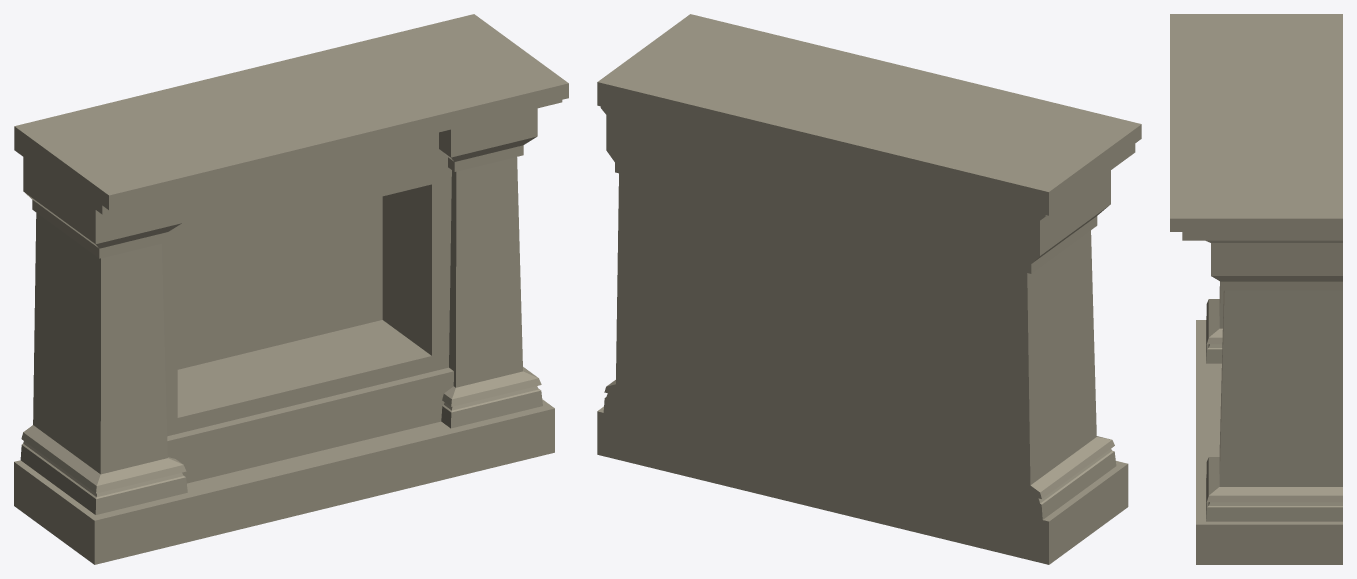
The model's file is Fireplace.glb.
3 renders of one model, left to right at view 1: azimuth 30°, elevation 25°; view 2: azimuth 150°, elevation 25°; view 3: azimuth 270°, elevation 25°, orthographic. The views are drawn at different scales.
Visible parts, largest first — view 1: Fireplace; view 2: Fireplace; view 3: Fireplace.
Part boxes in pixels (box(x1,y1,x2,y2)): Fireplace: box(14, 14, 568, 564); Fireplace: box(597, 14, 1141, 564); Fireplace: box(1170, 14, 1342, 564).
Bounding box in the file's own units: 0.9749 × 0.7684 × 0.3474.
